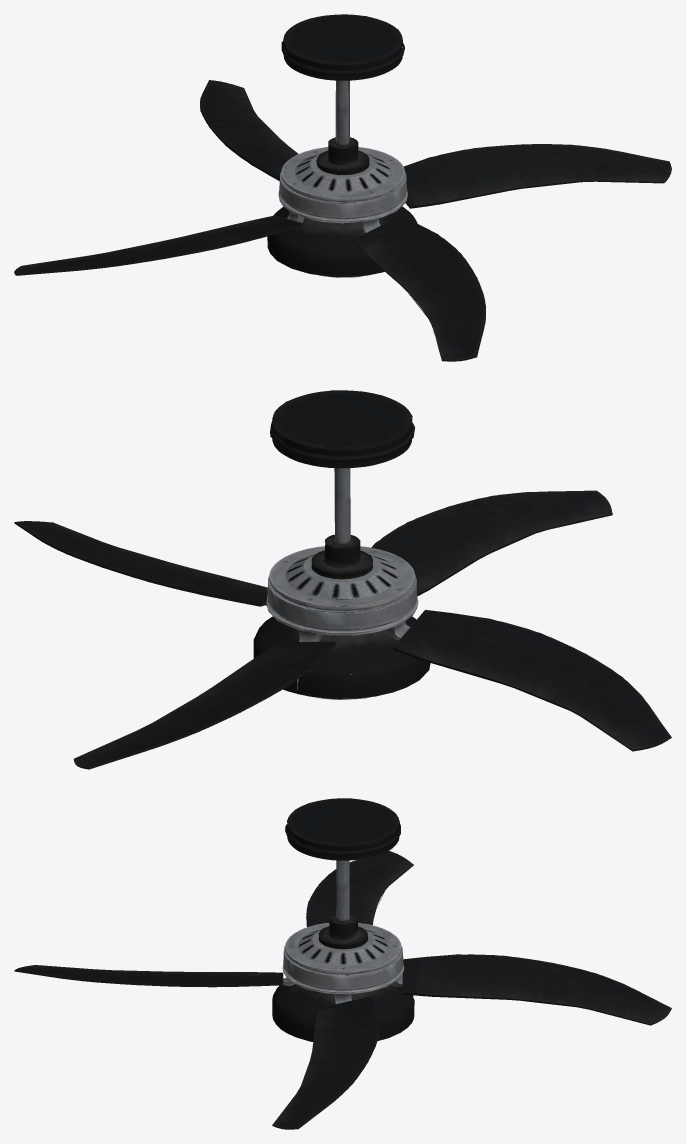
Rendered from ph_ceiling_fan.glb.
3 views of the same model, one above another, from view 1: azimuth 30°, elevation 25°; view 2: azimuth 150°, elevation 25°; view 3: azimuth 270°, elevation 25° (orthographic). The views are drawn at different scales.
Visible parts, largest first — view 1: ceiling_fan; view 2: ceiling_fan; view 3: ceiling_fan.
Part boxes in pixels (box(x1,y1,x2,y2)): ceiling_fan: box(14, 14, 671, 361); ceiling_fan: box(14, 390, 671, 769); ceiling_fan: box(14, 798, 671, 1129).
Size of the model in its own units: 1.47 by 0.5163 by 1.47.
1 material, 1 textured.
